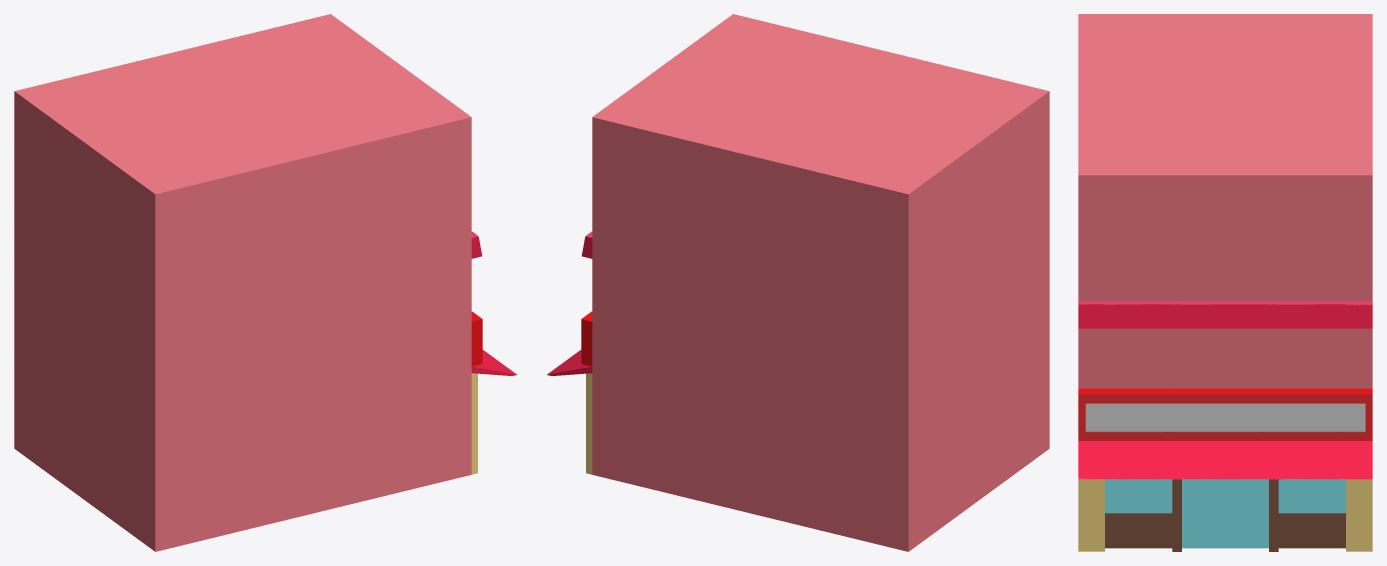
The model's file is Pasteleria.fbx.
The picture shows the model from 3 angles, left to right: view 1: azimuth 30°, elevation 25°; view 2: azimuth 150°, elevation 25°; view 3: azimuth 270°, elevation 25°; orthographic projection. The views are drawn at different scales.
Visible parts, largest first — view 1: Cubo.002; view 2: Cubo.002; view 3: Cubo.002.
Part boxes in pixels (<box>): Cubo.002: <box>14,14,516,551</box>; Cubo.002: <box>547,14,1049,551</box>; Cubo.002: <box>1078,14,1372,551</box>.
Size of the model in its own units: 3960 by 3737 by 2671.
Materials: 1 (1 with a texture image).
